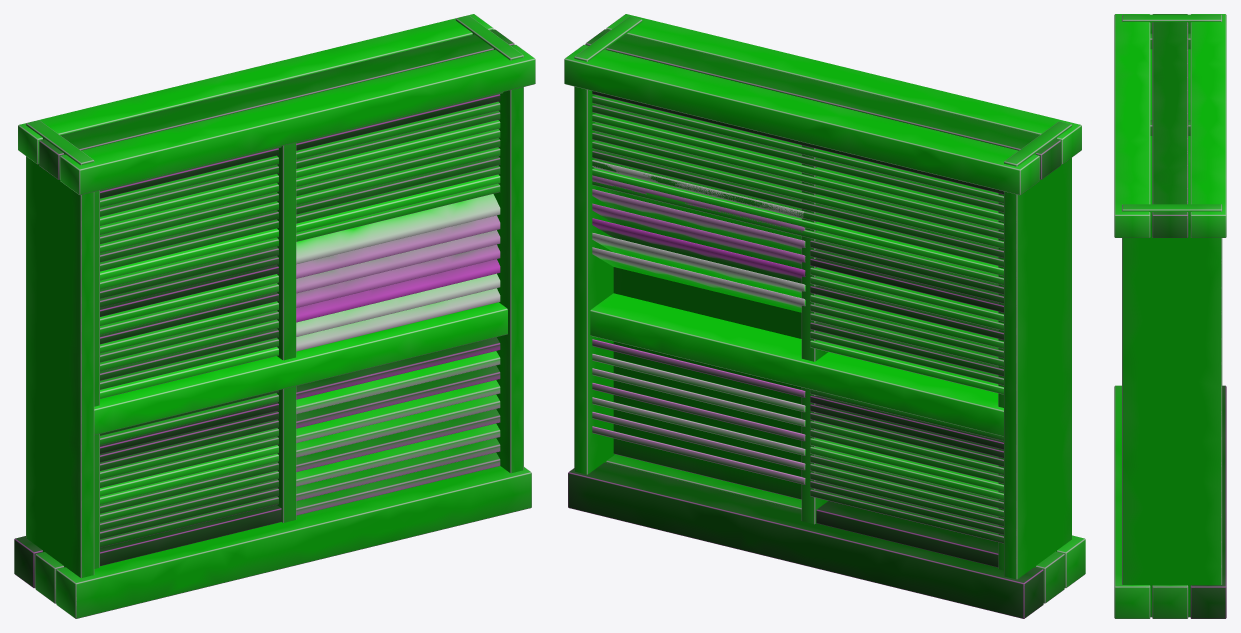
The model's file is window_400x350_03.fbx.
3 views of the same model, side by side, from view 1: azimuth 30°, elevation 25°; view 2: azimuth 150°, elevation 25°; view 3: azimuth 270°, elevation 25° (orthographic). The views are drawn at different scales.
Visible parts, largest first — view 1: window_400x350_03; view 2: window_400x350_03; view 3: window_400x350_03.
Boxes of the visible parts, left/top/right/bottom form: window_400x350_03: left=14, top=14, right=535, bottom=618; window_400x350_03: left=564, top=14, right=1085, bottom=618; window_400x350_03: left=1114, top=14, right=1226, bottom=618.
Size of the model in its own units: 2.14 by 2 by 0.4981.
